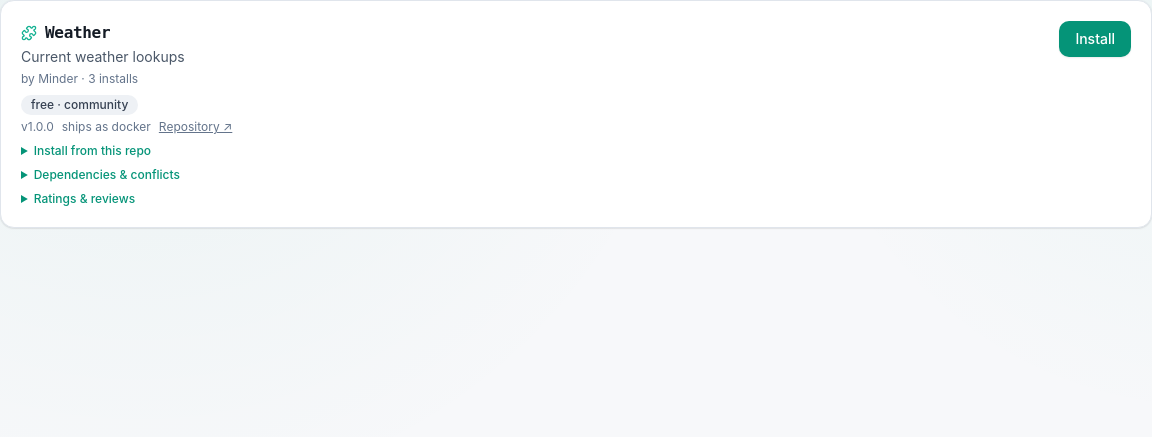
Test: PluginCard › surfaces the backend error (e.g. SSRF-rejected URL) without crashing
Click the heading "Install from this repo".
click(92, 150)  # box [34,143,151,158]
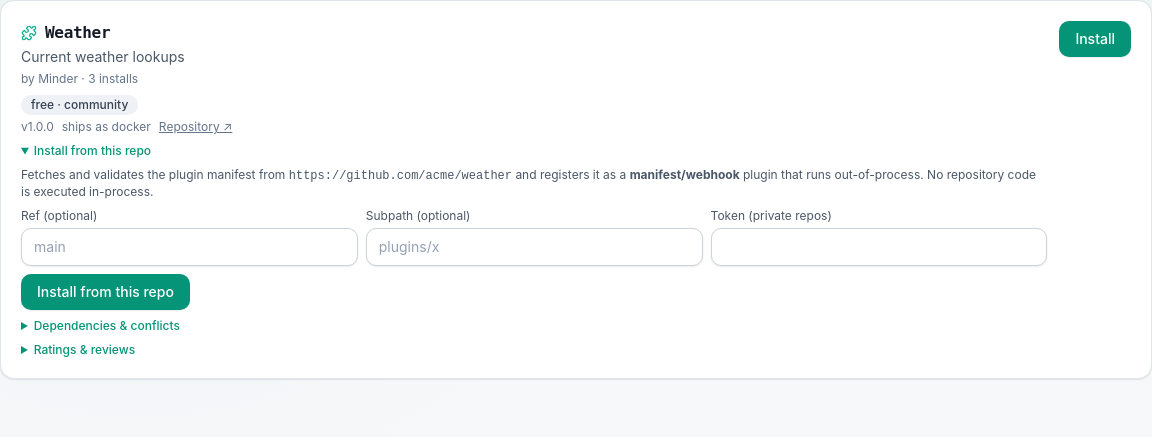
Click the button with aria-label "Install Weather from this repo".
click(105, 292)  # box [21,274,190,310]
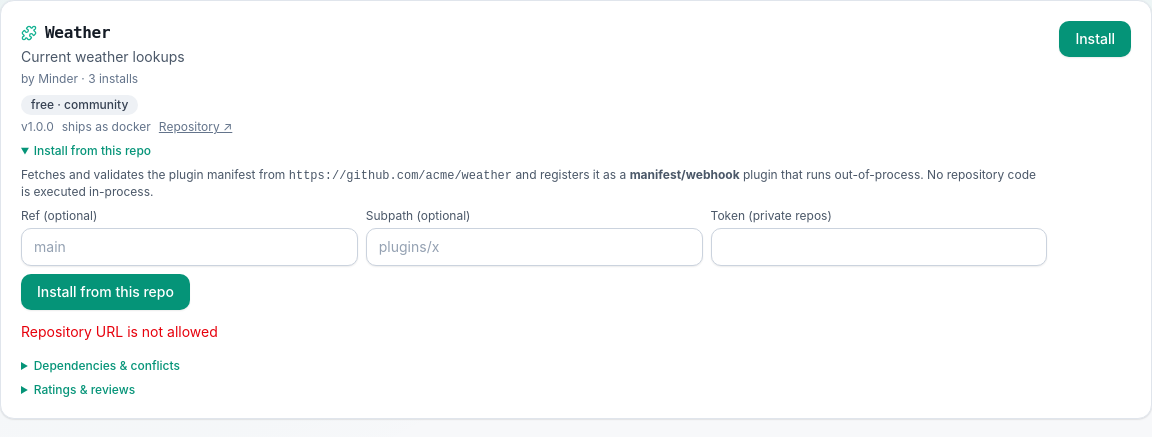
Expected: the text "Repository URL is not allowed" is shown, [21,323,218,340]
